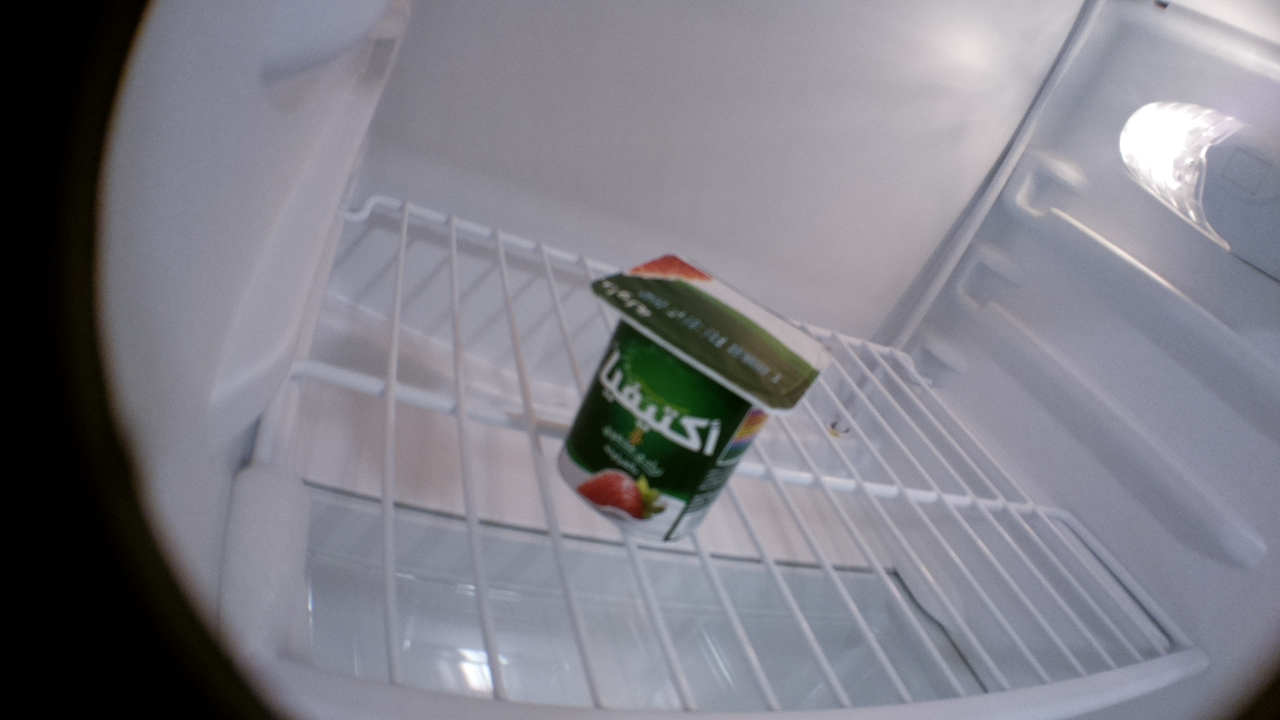yoghurt: (558, 251, 832, 545)
